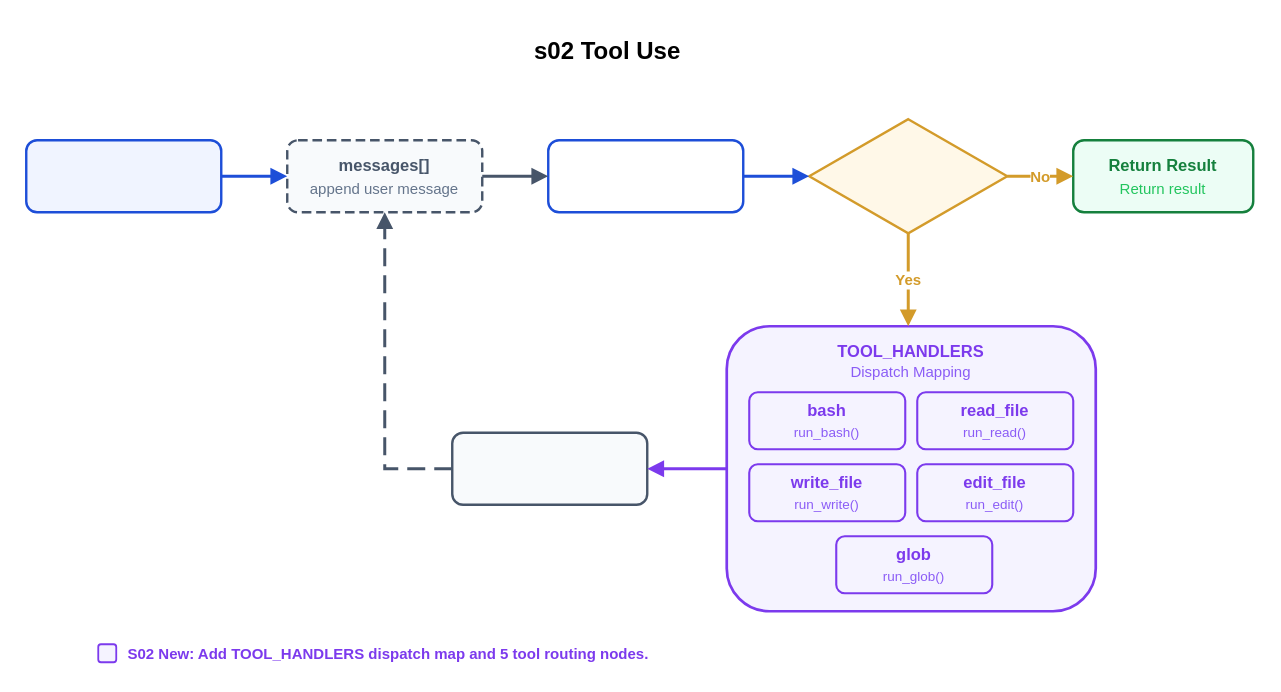
This 1281x692 diagram has some shape labels left out. The shapes that lost their labels are listed below. From the top down, each one's box as (x1, y1, x2, y2) in pixels, then its label:
(24, 138, 222, 213): User Query read a.py, list all .py files
(546, 138, 744, 213): LLM content + stop_reason
(807, 117, 1008, 234): stop_reason == tool_use?
(450, 431, 648, 505): Tool Result append tool_result
